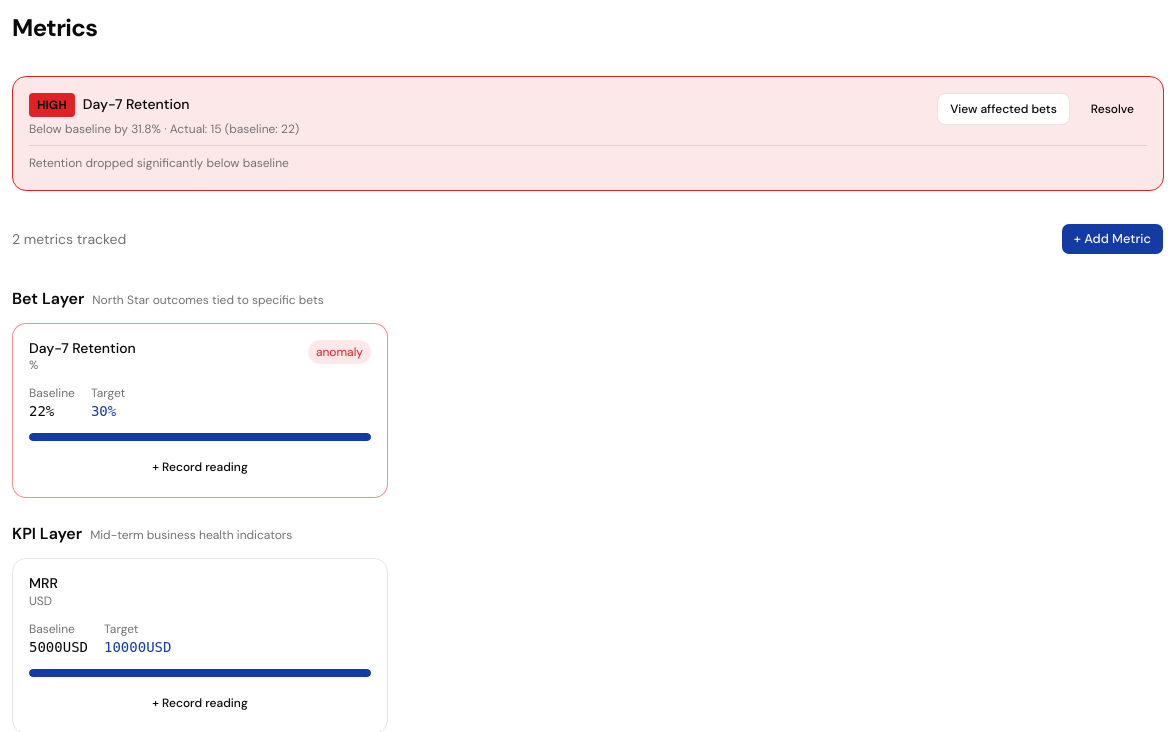
Test: MetricsPage › loads and displays affected bets for an anomaly
Click the button "View affected bets": x=1003, y=109 [937,93,1070,125]
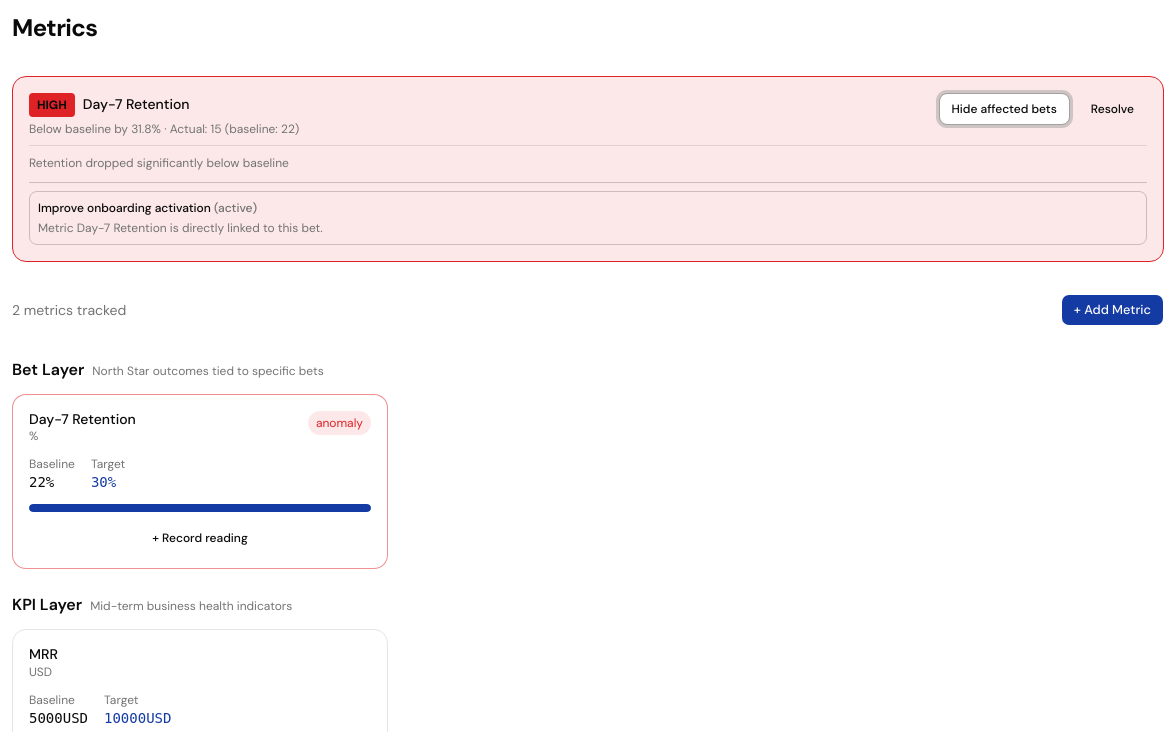
Expected: the text "Improve onboarding activation" is shown, [38,200,211,216]
Expected: the text "Metric Day-7 Retention is directly linked to this bet." is shown, [38,220,323,236]
